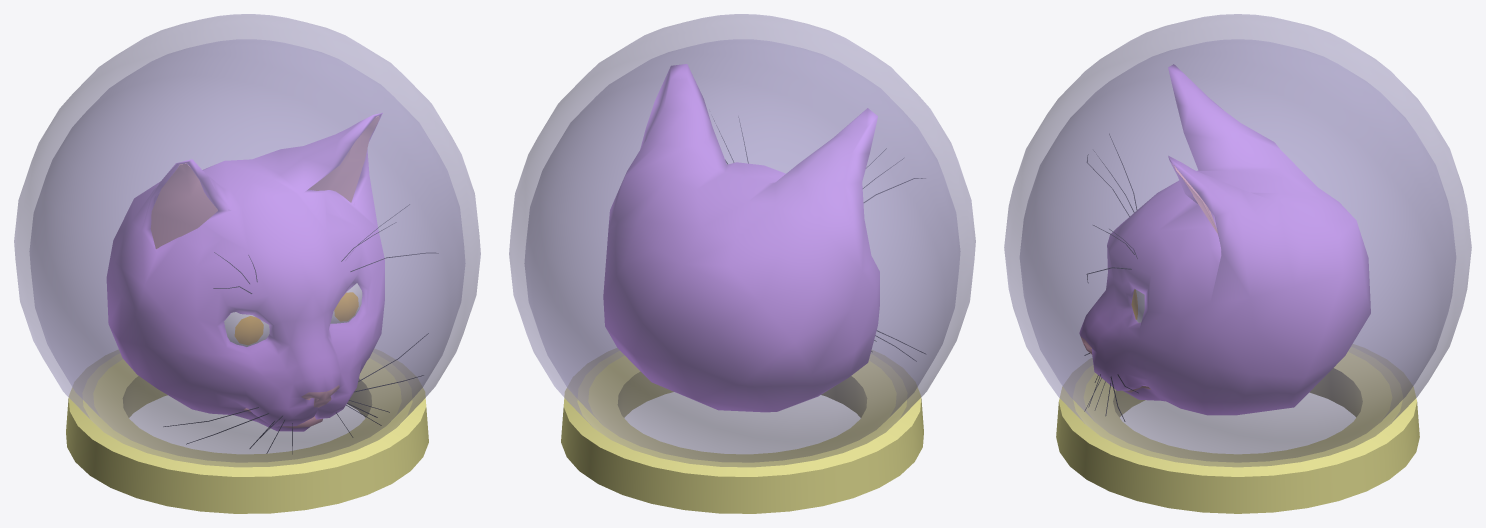
File: cat_head_astronaut.fbx
3 views of the same model, side by side, from view 1: azimuth 30°, elevation 25°; view 2: azimuth 150°, elevation 25°; view 3: azimuth 270°, elevation 25° (orthographic).
Visible parts, largest first — view 1: Helmet, Gato; view 2: Helmet, Gato; view 3: Helmet, Gato.
Boxes of the visible parts, x1,y1,x2,y2 form: Helmet: (14, 14, 480, 513); Gato: (106, 113, 438, 453); Helmet: (509, 14, 975, 513); Gato: (603, 64, 925, 412); Helmet: (1004, 14, 1471, 513); Gato: (1079, 64, 1370, 421).
Bounding box in the file's own units: 105 × 100 × 105.
